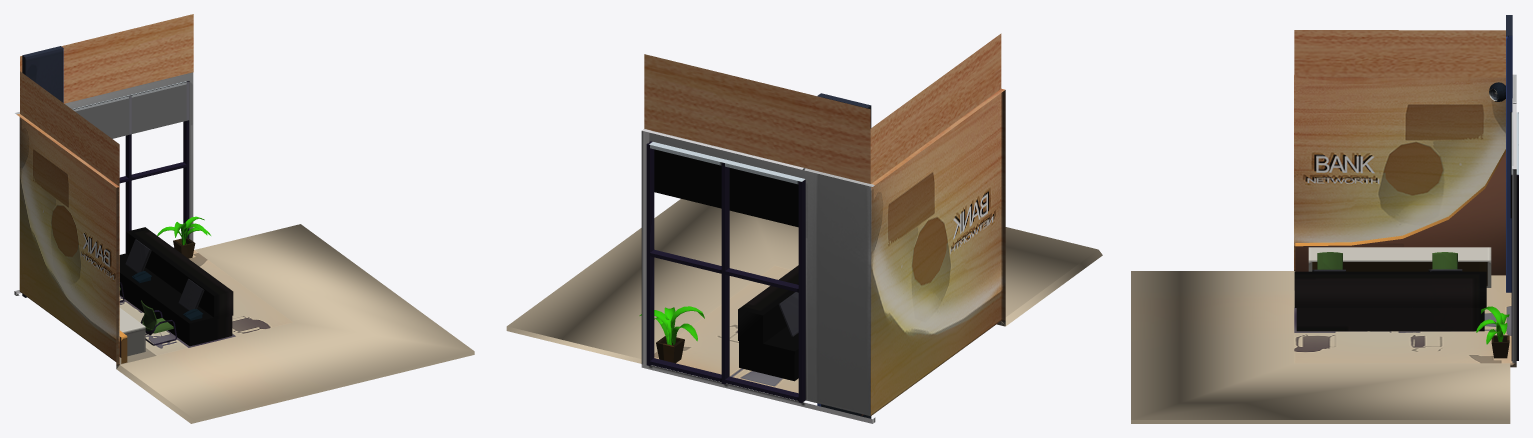
File: Hotel_interior.fbx
3 renders of one model, left to right at view 1: azimuth 30°, elevation 25°; view 2: azimuth 150°, elevation 25°; view 3: azimuth 270°, elevation 25°, orthographic. The views are drawn at different scales.
Visible parts, largest first — view 1: polySurface82; view 2: polySurface82; view 3: polySurface82.
Boxes of the visible parts, x1,y1,x2,y2 form: polySurface82: [14, 14, 474, 423]; polySurface82: [506, 33, 1102, 423]; polySurface82: [1131, 15, 1518, 423].
Bounding box in the file's own units: 36.41 × 29.52 × 39.53.
